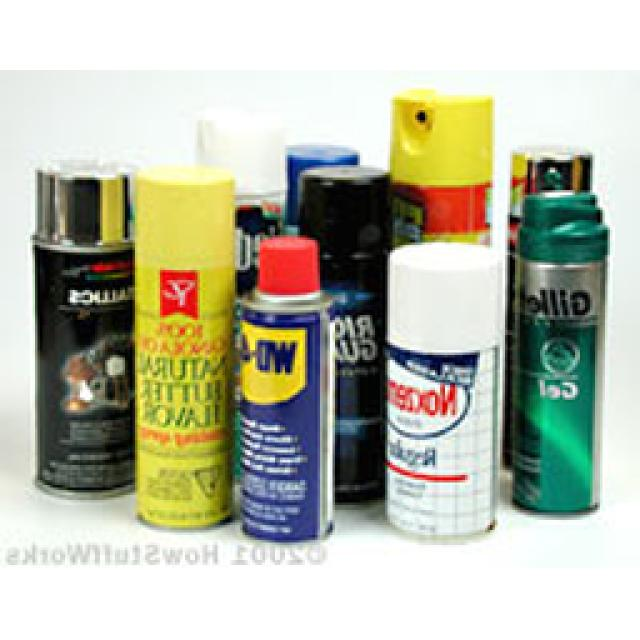B3: (134, 168, 237, 530), (35, 160, 138, 500), (384, 244, 502, 540), (199, 119, 285, 493), (298, 166, 392, 504), (514, 201, 614, 510), (237, 235, 337, 540), (391, 91, 492, 246)
